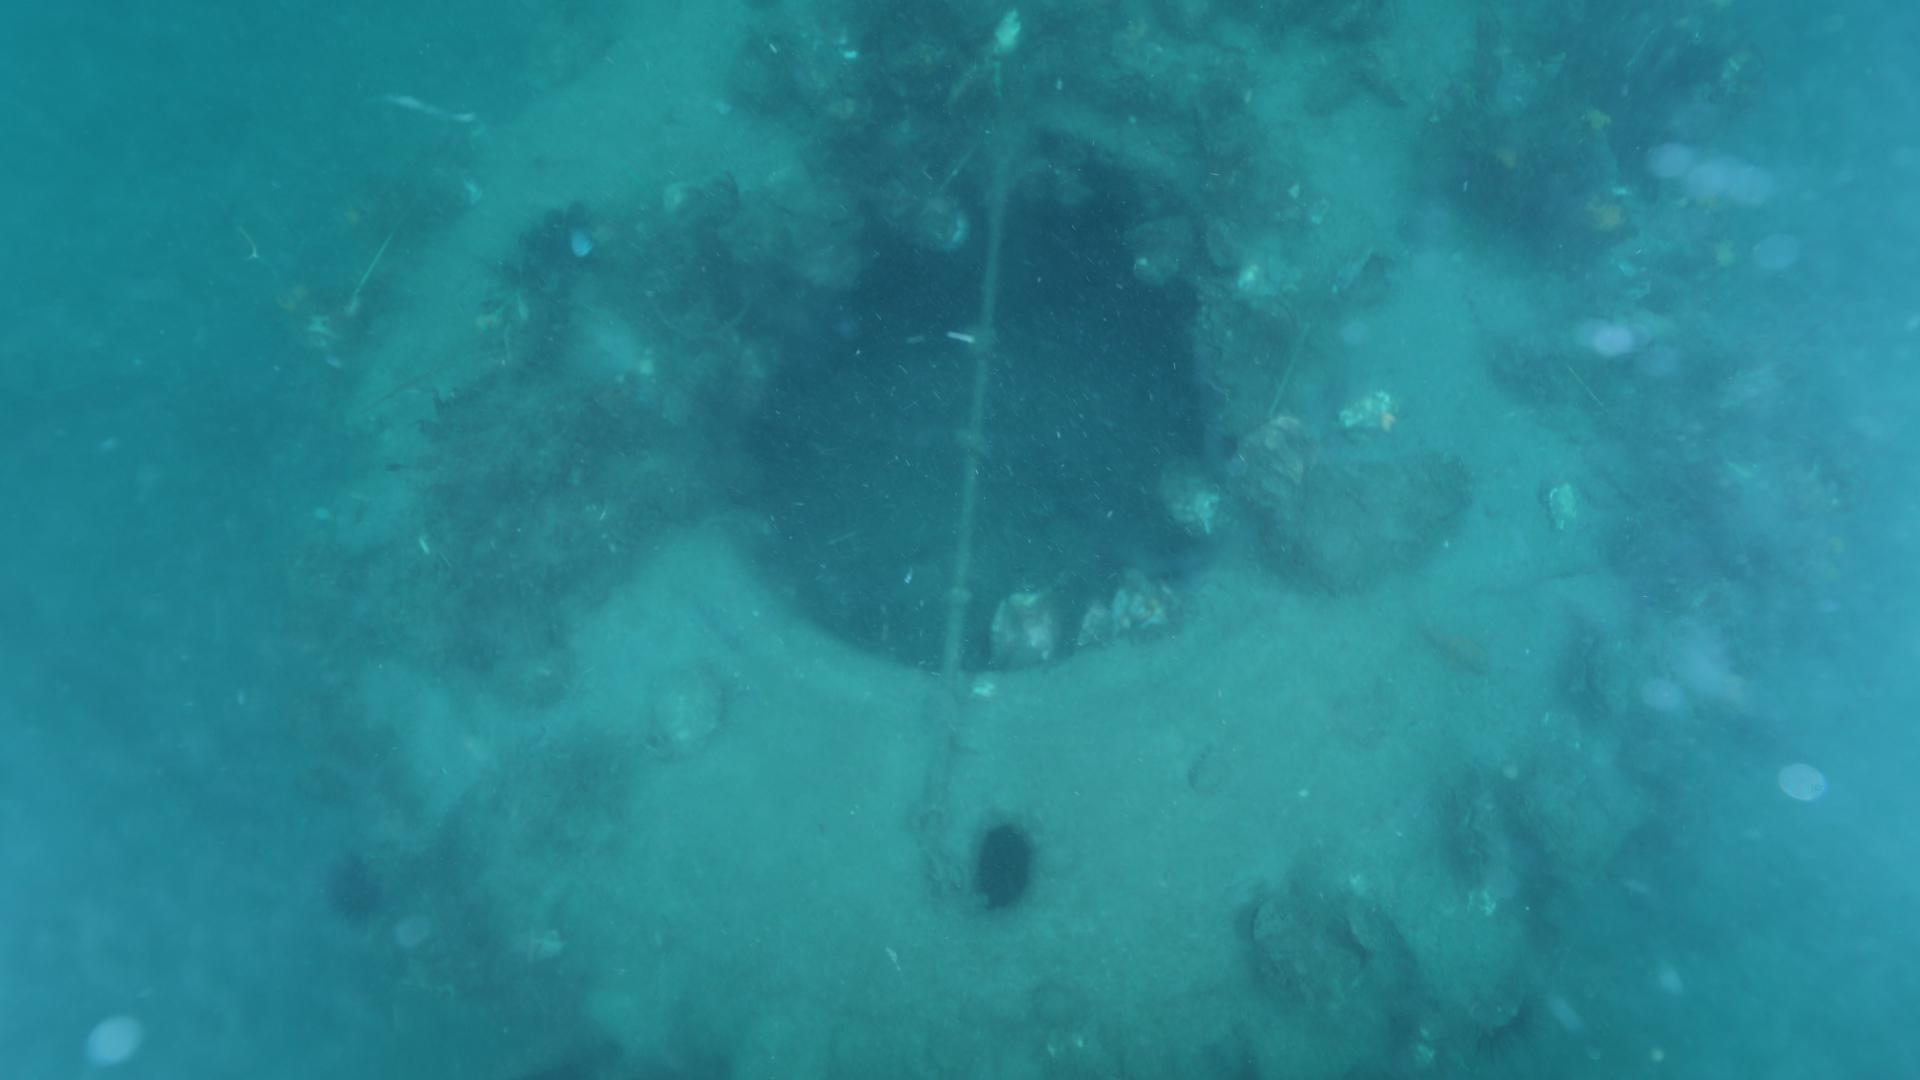tire: (331, 0, 1643, 1080)
